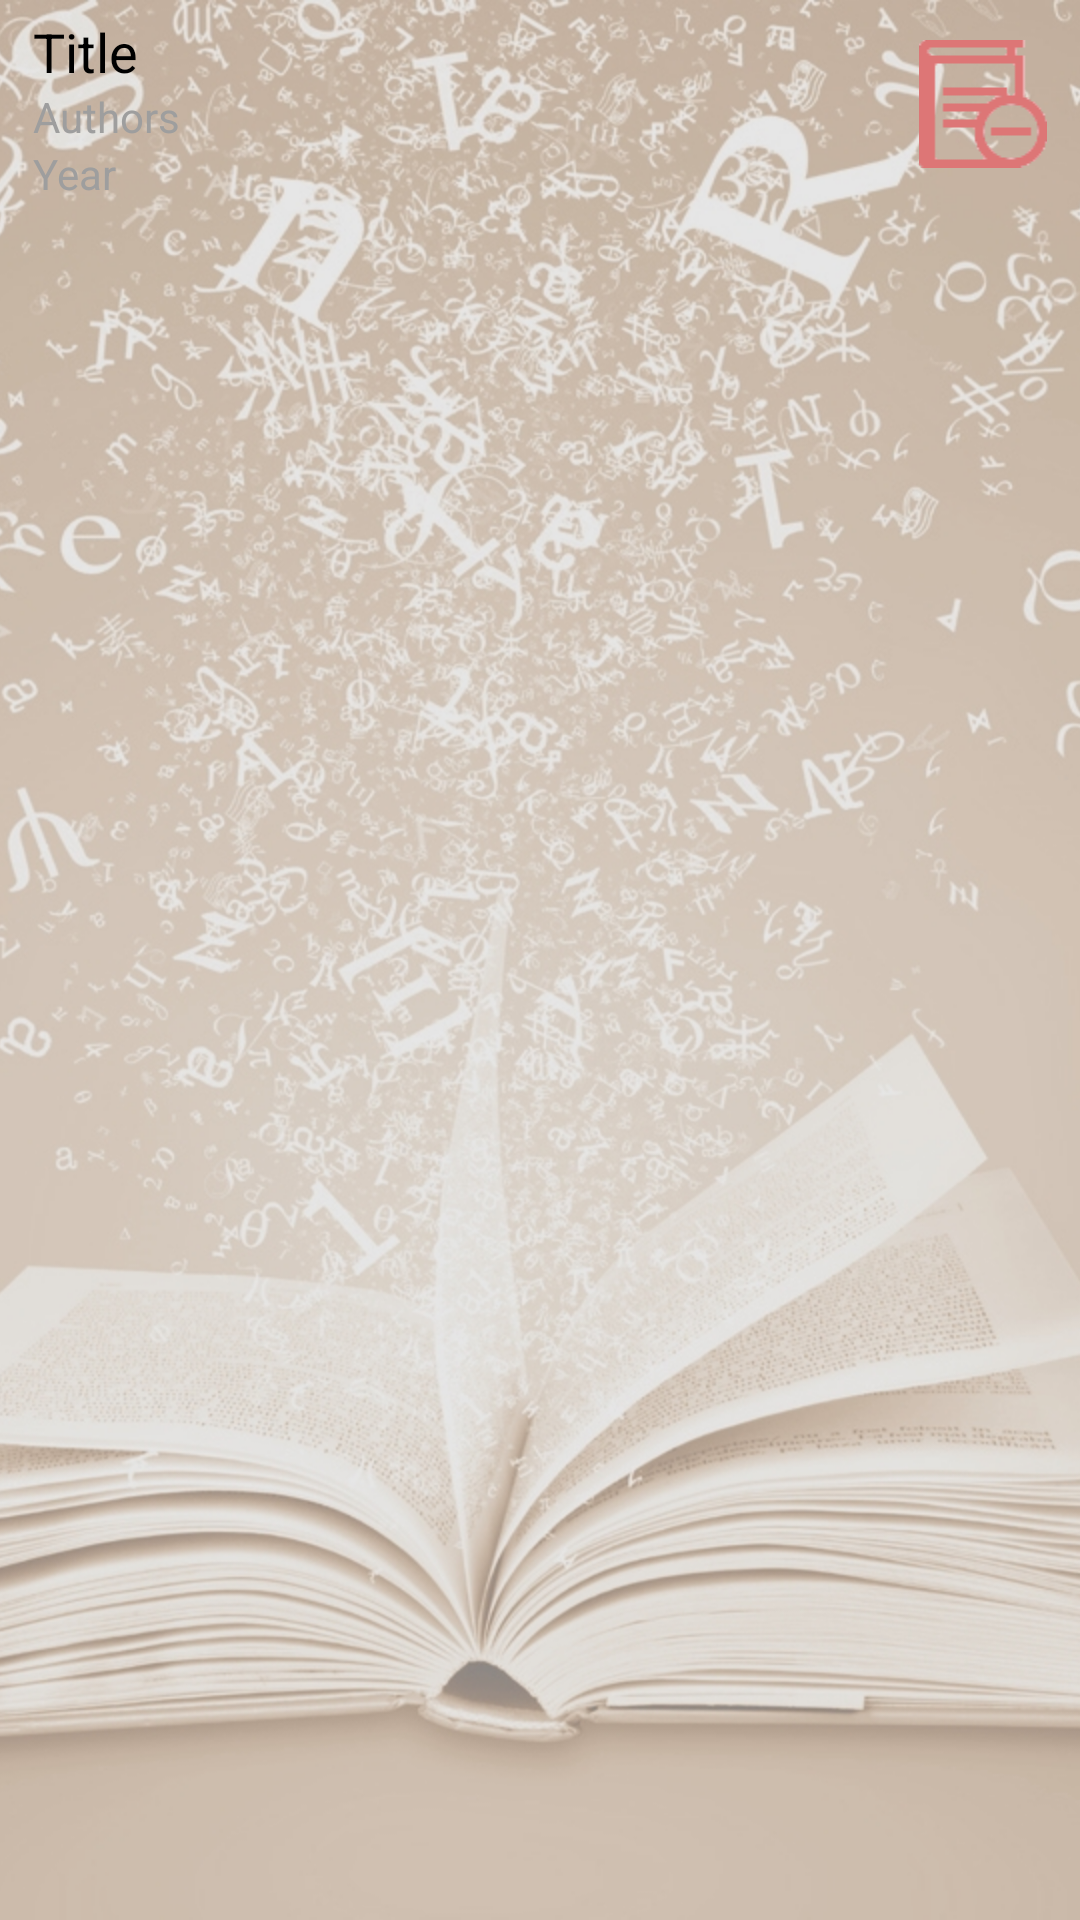

Locate icon controls on the screen. Image size 1080 × 1920, boxes as (x1, y1, x2, y2).
book: (919, 17, 1047, 207)
